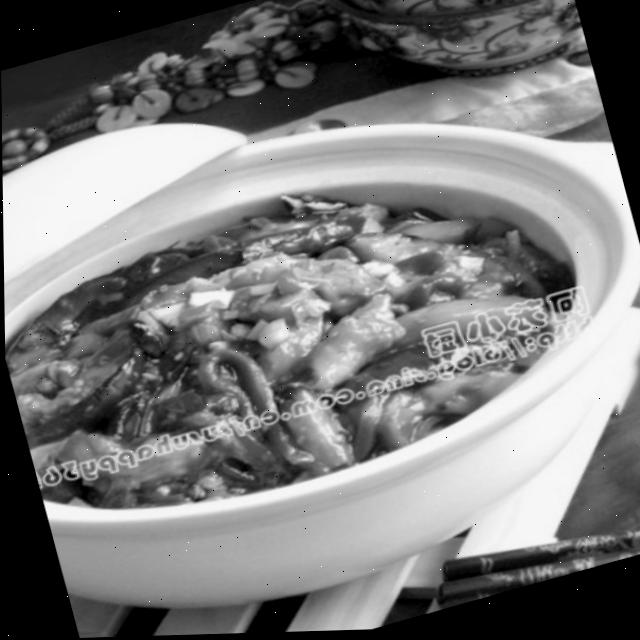鸡蛋料理: (0, 15, 640, 640)
